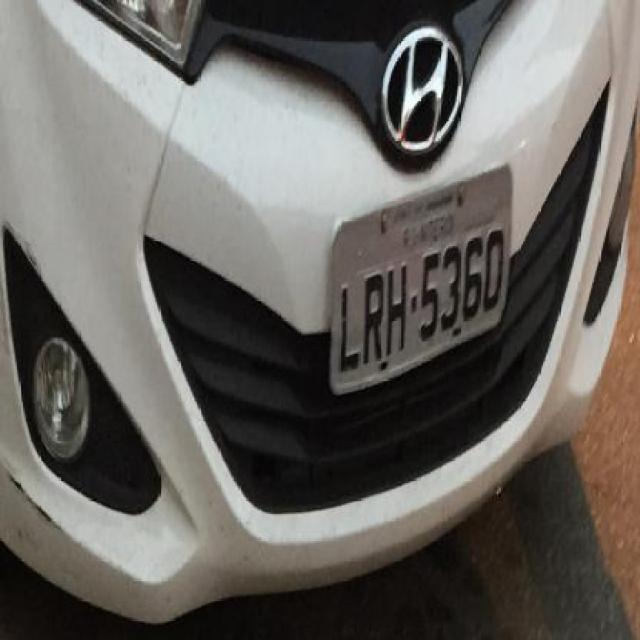old_plate: (322, 152, 522, 402)
